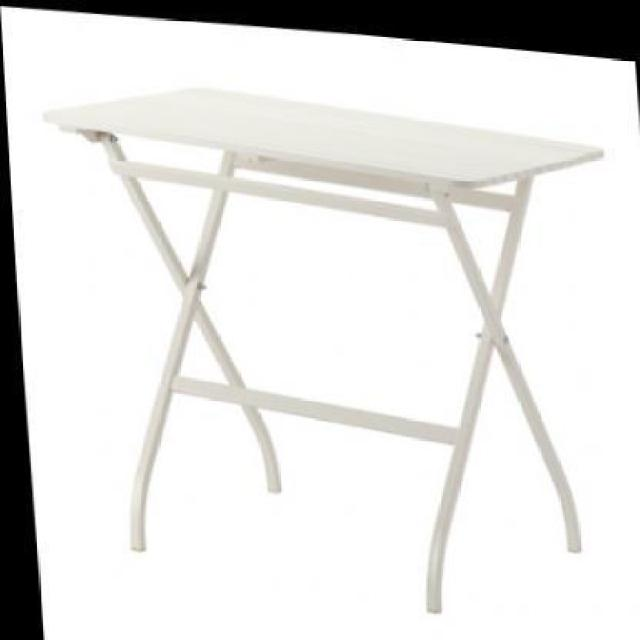tables: (41, 83, 604, 614)
